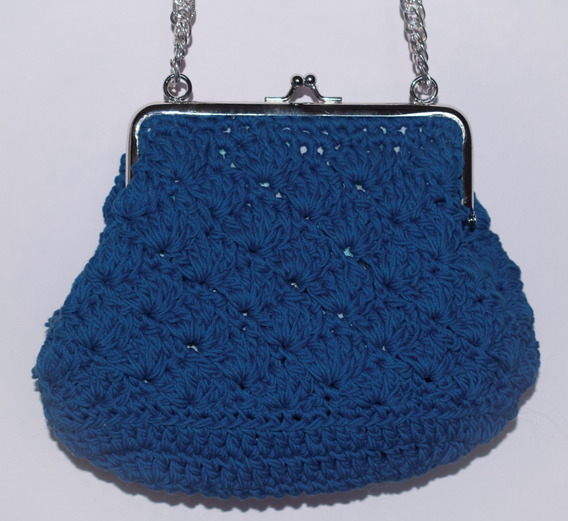cartera: (33, 1, 540, 499)
